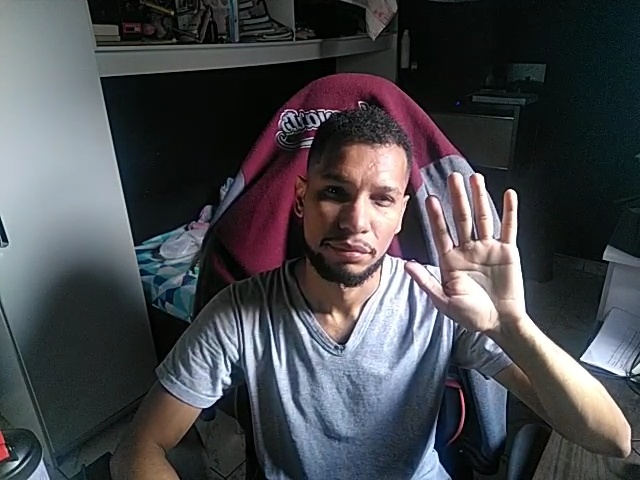oi: (396, 170, 536, 334)
